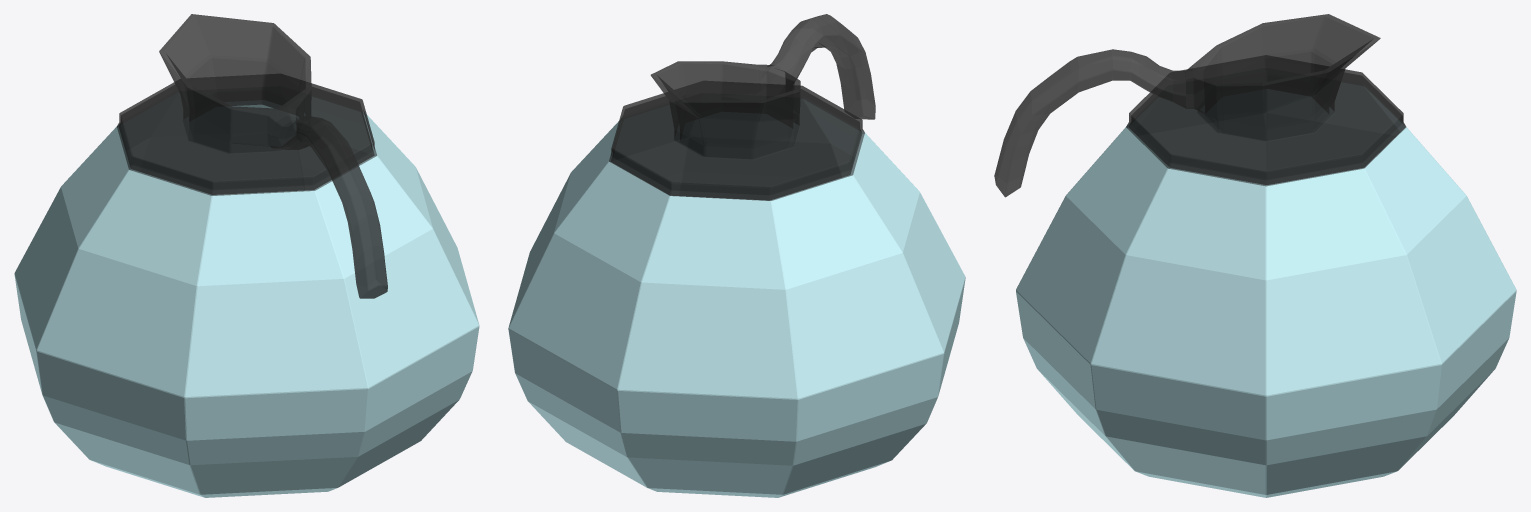
Rendered from Coffe_Pot_exportPrep.gltf.
The picture shows the model from 3 angles, left to right: view 1: azimuth 30°, elevation 25°; view 2: azimuth 150°, elevation 25°; view 3: azimuth 270°, elevation 25°; orthographic projection. The views are drawn at different scales.
Parts seen in each view (by area): view 1: CoffePot; view 2: CoffePot; view 3: CoffePot.
Part boxes in pixels (left/top/right/bottom): CoffePot: left=14, top=14, right=479, bottom=497; CoffePot: left=508, top=14, right=965, bottom=497; CoffePot: left=994, top=14, right=1516, bottom=497.
Bounding box in the file's own units: 0.1919 × 0.1647 × 0.2001.
